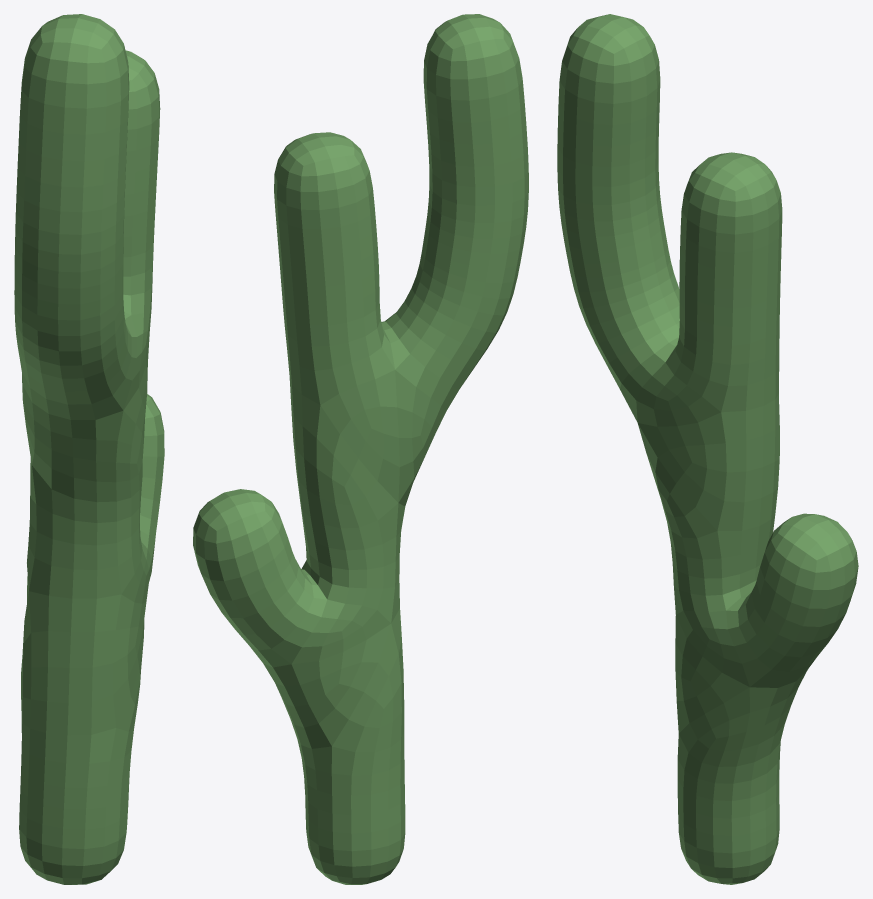
File: cactus2.fbx
3 views of the same model, side by side, from view 1: azimuth 30°, elevation 25°; view 2: azimuth 150°, elevation 25°; view 3: azimuth 270°, elevation 25° (orthographic). The views are drawn at different scales.
Parts seen in each view (by area): view 1: Plane.007; view 2: Plane.007; view 3: Plane.007.
Boxes of the visible parts, left/top/right/bottom form: Plane.007: left=14, top=14, right=164, bottom=884; Plane.007: left=193, top=14, right=528, bottom=884; Plane.007: left=557, top=14, right=858, bottom=884.
Bounding box in the file's own units: 47.43 × 168 × 55.17.
